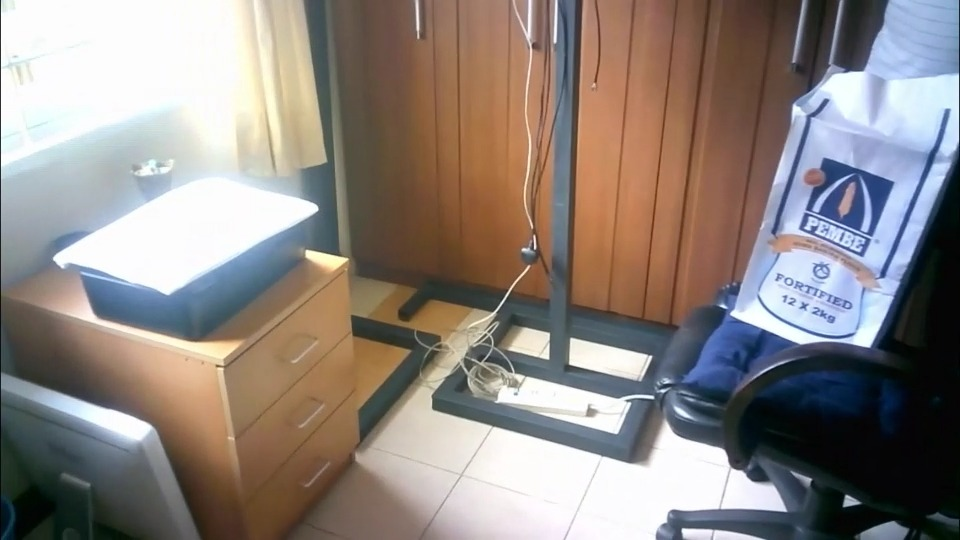wheat_flour_blue_label: (729, 71, 960, 352)
